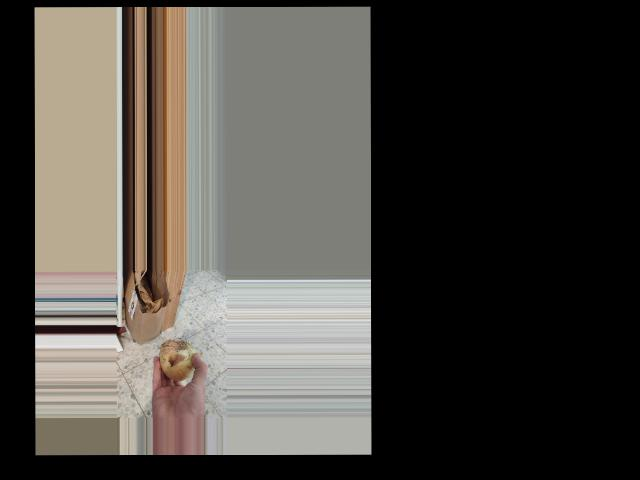onion: (158, 339, 203, 383)
